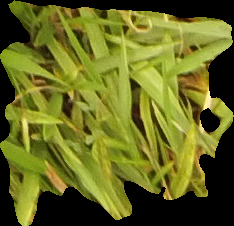grass: (1, 1, 232, 225)
